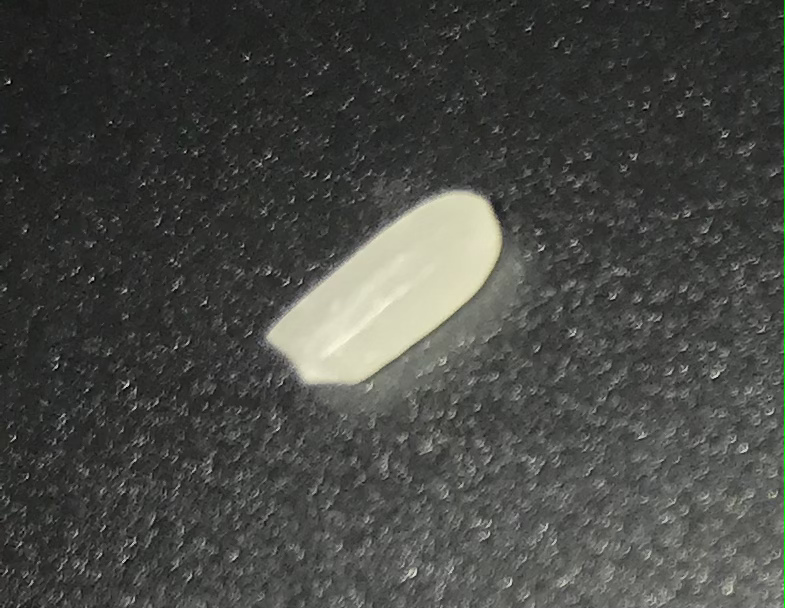Gao Thom My: (240, 180, 521, 394)
